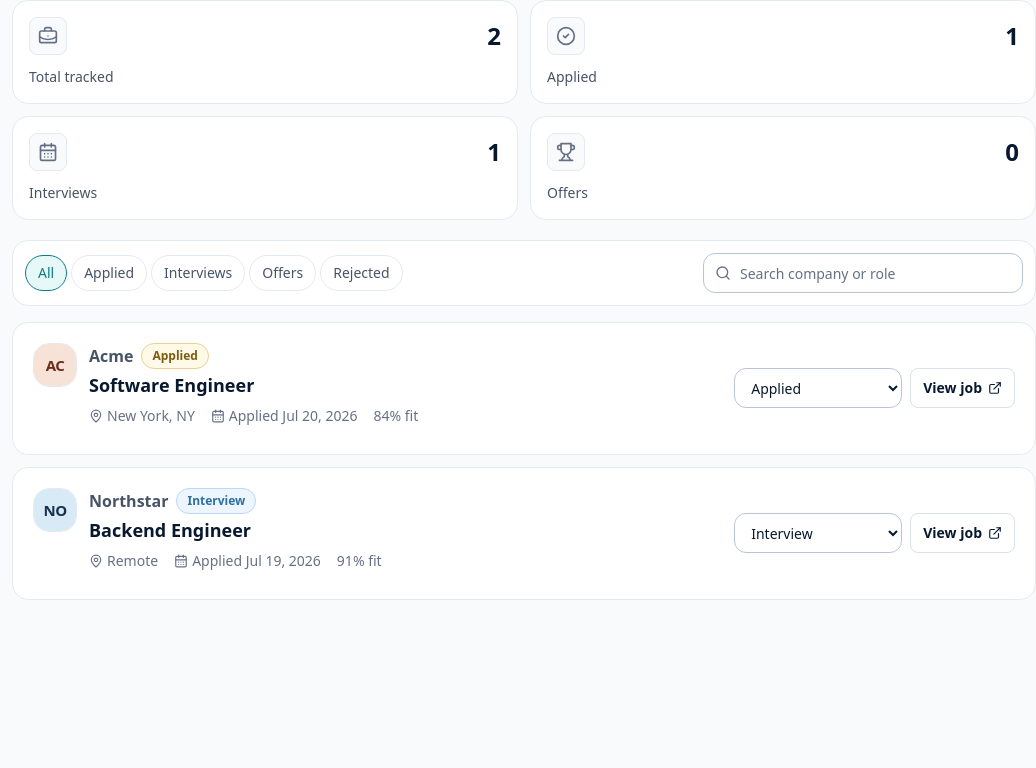
Test case: TrackerClient › updates status from the application card
This screenshot has width=1036, height=768.
Select "Offer / selected" in the dropdown named "Update status for Software Engineer": coordinates (818, 388) [734, 368, 902, 408]
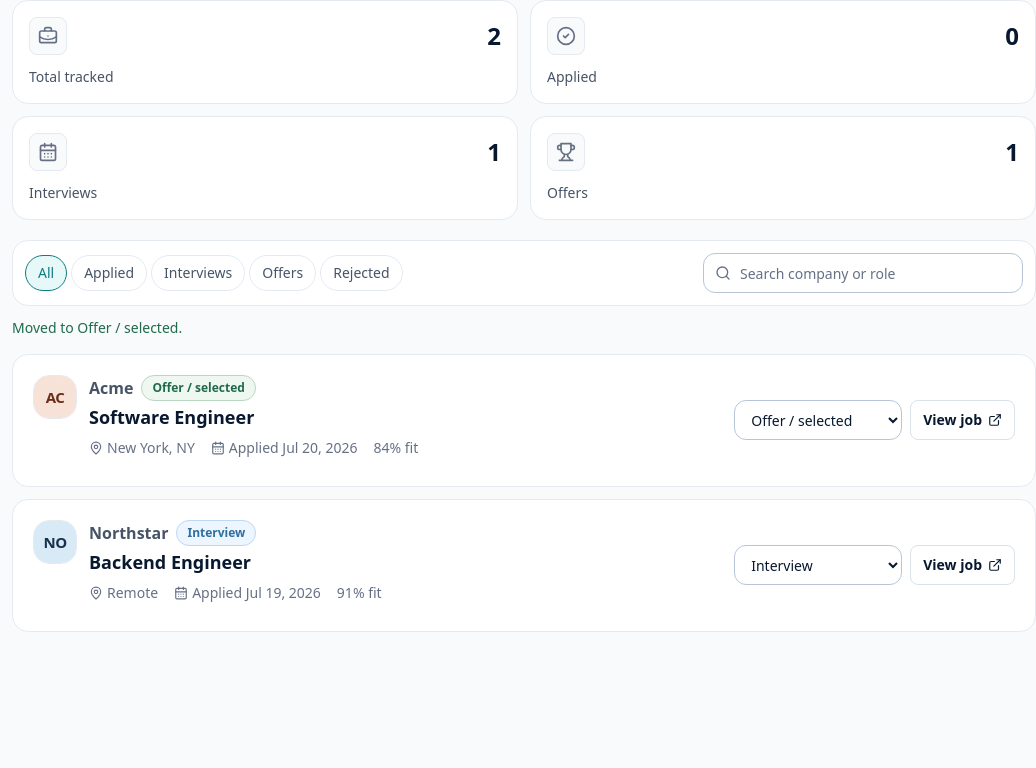
Result: the text "Moved to Offer / selected." is shown at [12, 318, 182, 337]
